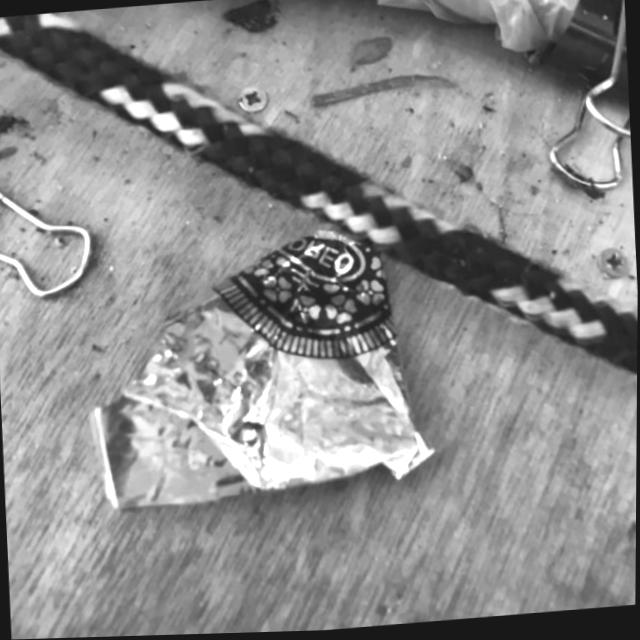Plastic: (77, 219, 445, 521)
